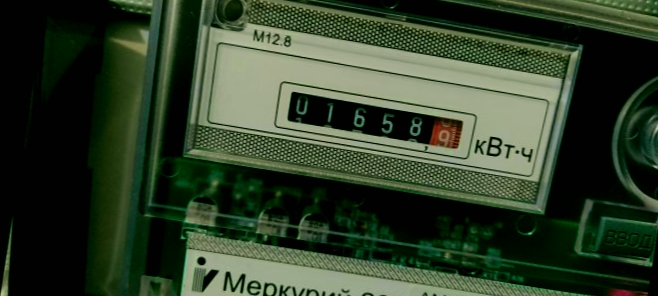0: (294, 92, 310, 115)
1: (323, 99, 337, 123)
5: (379, 109, 397, 134)
6: (351, 104, 368, 127)
8: (407, 112, 425, 136)
9: (434, 126, 451, 148)
screen: (267, 73, 486, 165)
